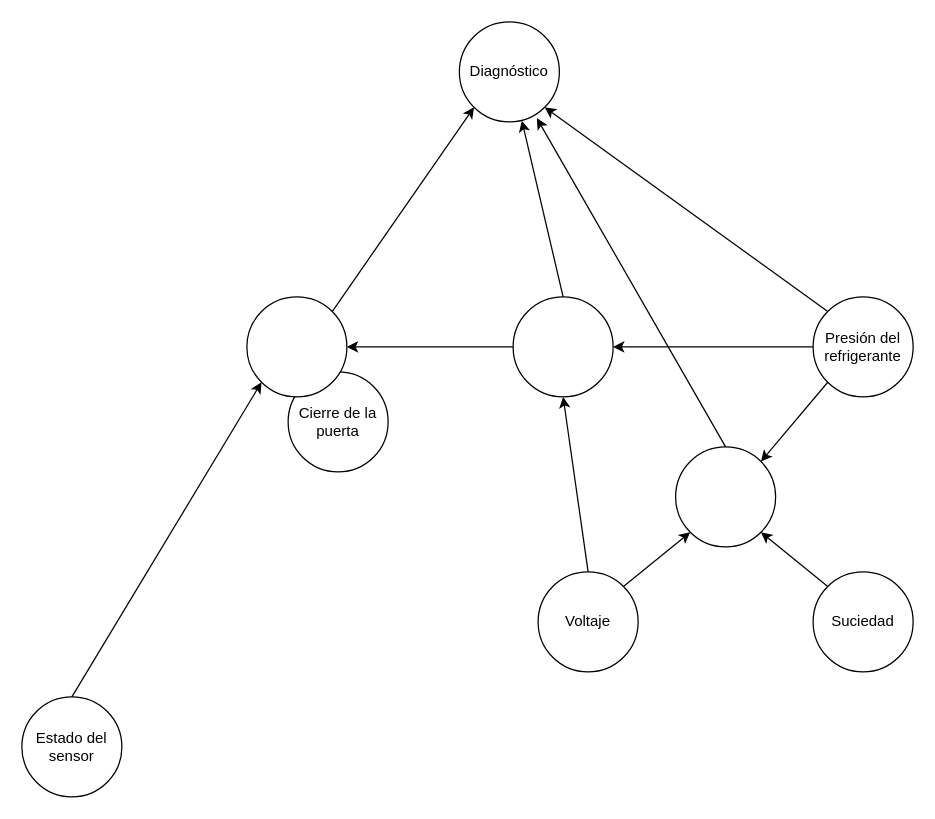
The diagram is 935 pixels wide and 819 high, and some of its shapes have lost their labels. Each missing label, with the centre of its shape:
Estado del compresor: point 562,346
Temperatura interna: point 296,346
Velocidad del ventilador: point 725,496
